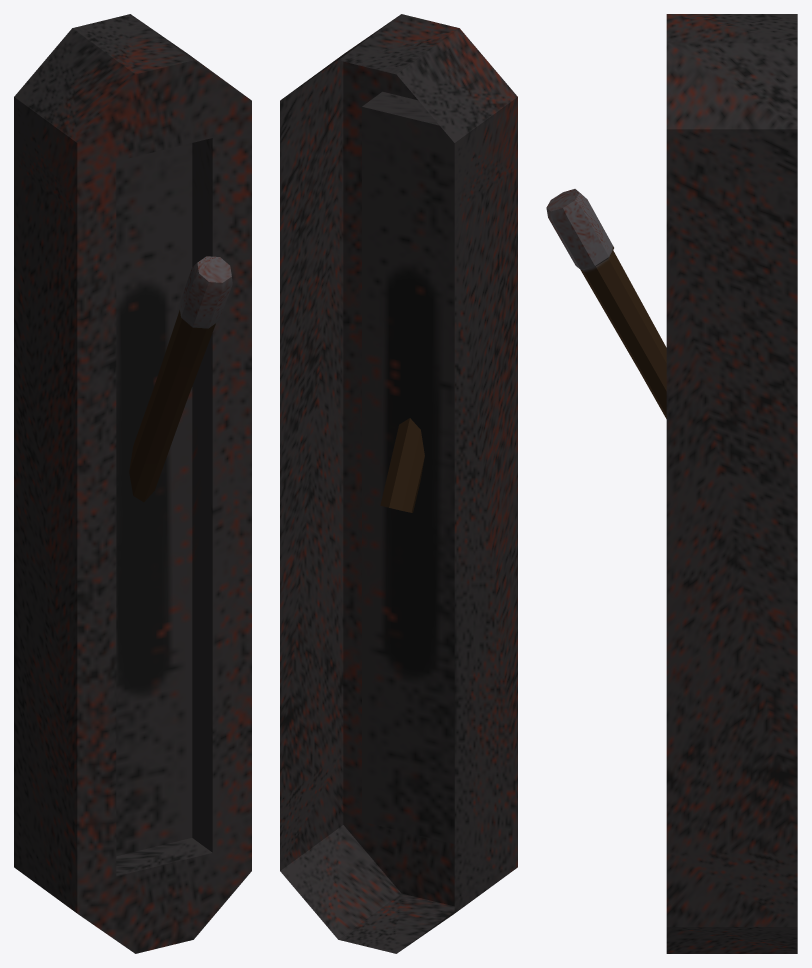
File: Lever.fbx
The picture shows the model from 3 angles, left to right: view 1: azimuth 30°, elevation 25°; view 2: azimuth 150°, elevation 25°; view 3: azimuth 270°, elevation 25°; orthographic projection. The views are drawn at different scales.
Parts seen in each view (by area): view 1: LeverPlace, Lever; view 2: LeverPlace, Lever; view 3: LeverPlace, Lever.
Boxes of the visible parts, x1,y1,x2,y2 form: LeverPlace: [14, 14, 251, 953]; Lever: [129, 256, 232, 502]; LeverPlace: [280, 14, 517, 953]; Lever: [380, 418, 424, 512]; LeverPlace: [666, 14, 797, 953]; Lever: [546, 189, 666, 418].
Bounding box in the file's own units: 0.2948 × 1.42 × 0.3549.
